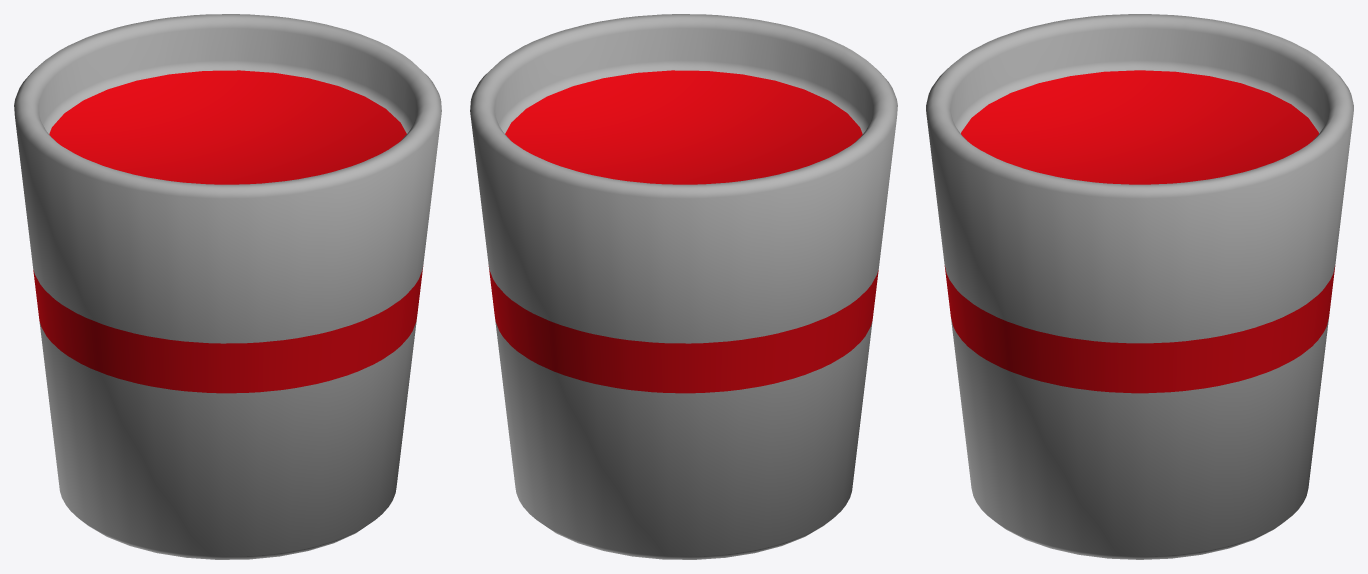
The model's file is Paint_Red.fbx.
3 renders of one model, left to right at view 1: azimuth 30°, elevation 25°; view 2: azimuth 150°, elevation 25°; view 3: azimuth 270°, elevation 25°, orthographic.
Visible parts, largest first — view 1: Cylinder; view 2: Cylinder; view 3: Cylinder.
Boxes of the visible parts, left/top/right/bottom form: Cylinder: left=14, top=14, right=441, bottom=559; Cylinder: left=470, top=14, right=897, bottom=559; Cylinder: left=926, top=14, right=1353, bottom=559.
Bounding box in the file's own units: 38.21 × 38.48 × 38.21.
